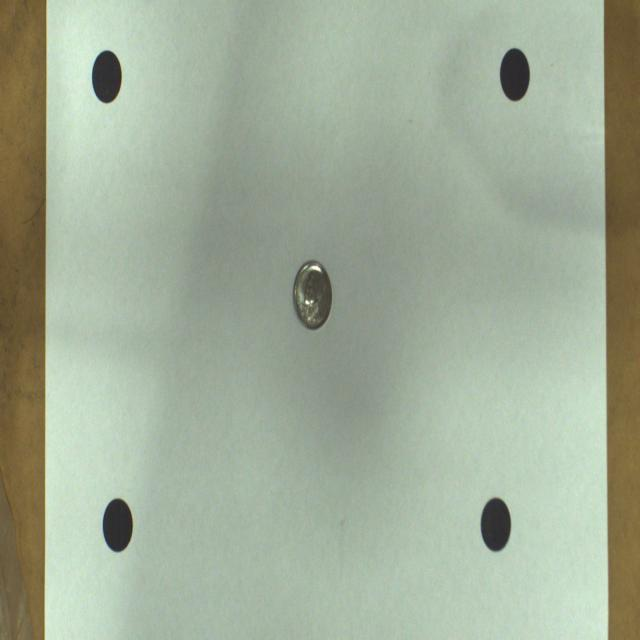head1bath: (294, 262, 332, 329)
space: (102, 498, 132, 553), (500, 49, 530, 102), (481, 498, 511, 551), (92, 51, 121, 104)
